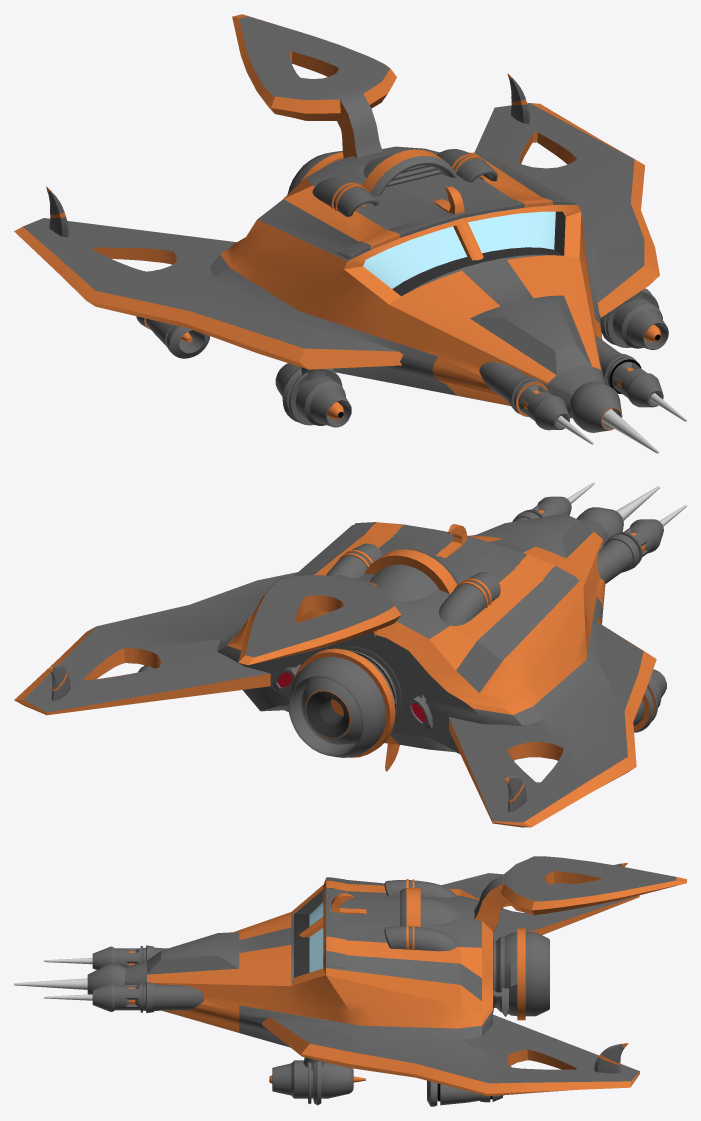
File: spaceship.glb
3 renders of one model, top to bottom at view 1: azimuth 30°, elevation 25°; view 2: azimuth 150°, elevation 25°; view 3: azimuth 270°, elevation 25°, orthographic. The views are drawn at different scales.
Visible parts, largest first — view 1: Cube.003; view 2: Cube.003; view 3: Cube.003.
Boxes of the visible parts, left/top/right/bottom form: Cube.003: left=14, top=14, right=686, bottom=453; Cube.003: left=14, top=482, right=686, bottom=827; Cube.003: left=14, top=856, right=686, bottom=1106.
Bounding box in the file's own units: 3.63 × 1.36 × 4.75.
